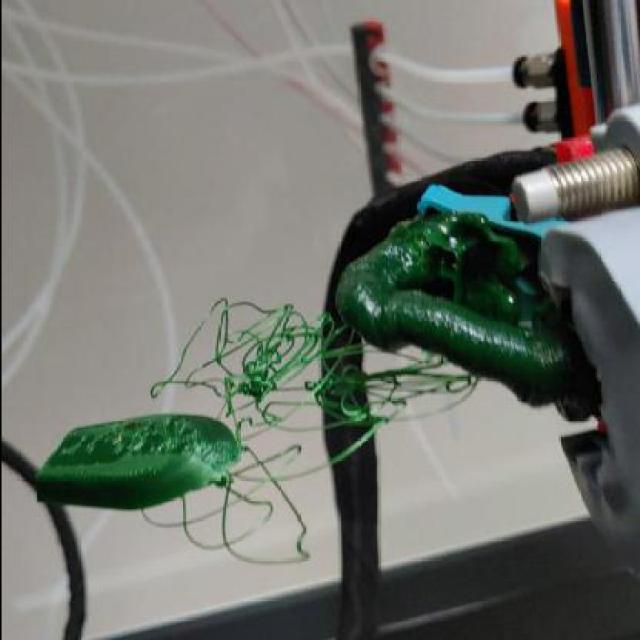Spaghetti: (139, 286, 486, 480), (143, 481, 320, 568)
